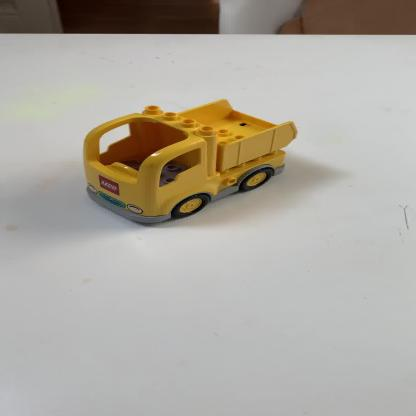yellow dump truck: (79, 98, 299, 225)
